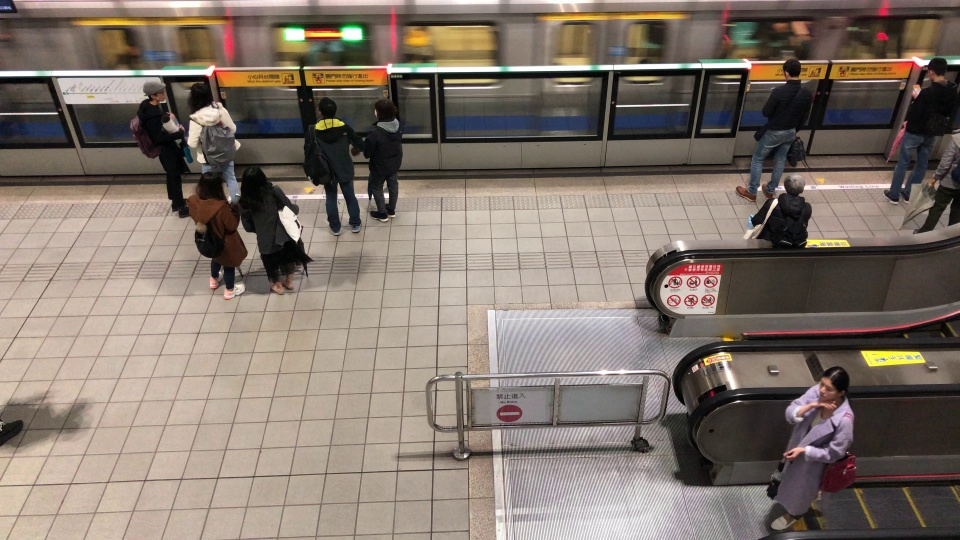person_head: (814, 367, 852, 403), (238, 168, 275, 201), (195, 171, 228, 200), (187, 82, 215, 113), (372, 99, 398, 125), (140, 80, 167, 105), (779, 175, 805, 200), (924, 58, 949, 84), (314, 96, 339, 120), (781, 60, 803, 80)
person_vbox: (760, 367, 858, 531), (876, 58, 957, 205), (730, 59, 812, 202), (237, 167, 312, 297), (127, 79, 196, 219), (299, 95, 366, 237), (179, 171, 249, 302), (180, 81, 245, 202), (355, 98, 408, 224), (907, 122, 960, 239), (734, 175, 812, 247)
